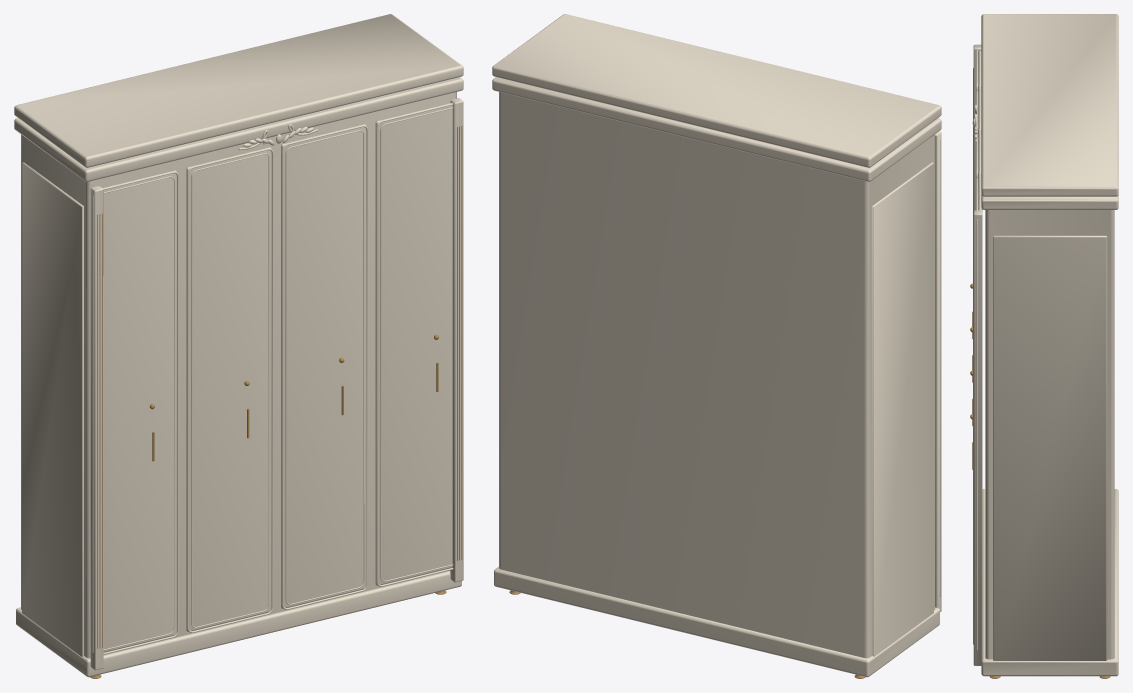
Rendered from wardrobe.glb.
3 renders of one model, left to right at view 1: azimuth 30°, elevation 25°; view 2: azimuth 150°, elevation 25°; view 3: azimuth 270°, elevation 25°, orthographic. The views are drawn at different scales.
Visible parts, largest first — view 1: wardrobe__Warm aged ivory lacquer, wardrobe__Honey ash exposed edges; view 2: wardrobe__Warm aged ivory lacquer; view 3: wardrobe__Warm aged ivory lacquer, wardrobe__Honey ash exposed edges.
Part boxes in pixels (bbox=[...]): wardrobe__Warm aged ivory lacquer: bbox=[14, 14, 463, 677]; wardrobe__Honey ash exposed edges: bbox=[90, 126, 462, 678]; wardrobe__Warm aged ivory lacquer: bbox=[492, 14, 941, 677]; wardrobe__Warm aged ivory lacquer: bbox=[972, 14, 1118, 676]; wardrobe__Honey ash exposed edges: bbox=[973, 68, 1110, 678].
Bounding box in the file's own units: 1.8 × 2.4 × 0.649.
